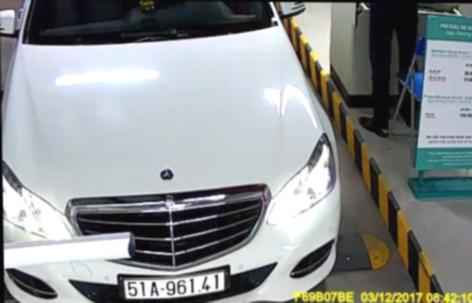License_Plate: (119, 274, 229, 298)
